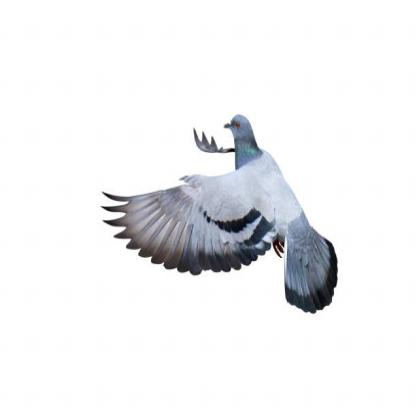Rock Pigeon: (217, 109, 334, 310)
